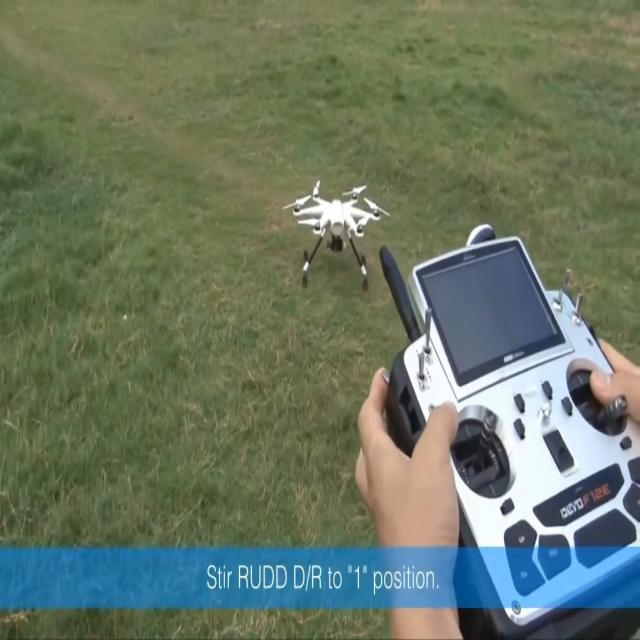drone: (282, 178, 390, 293)
